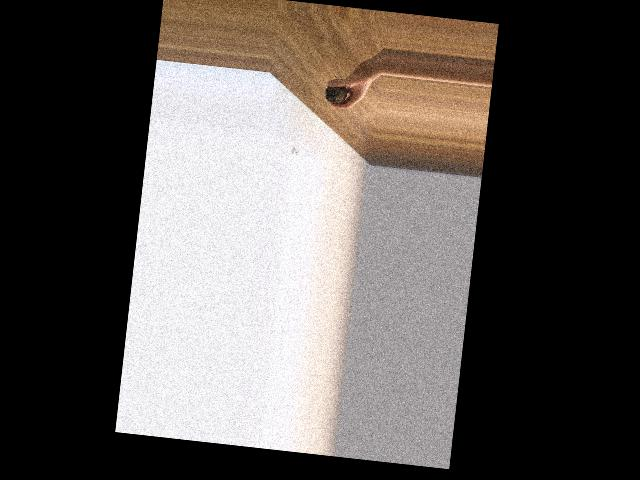beet: (323, 74, 348, 105)
